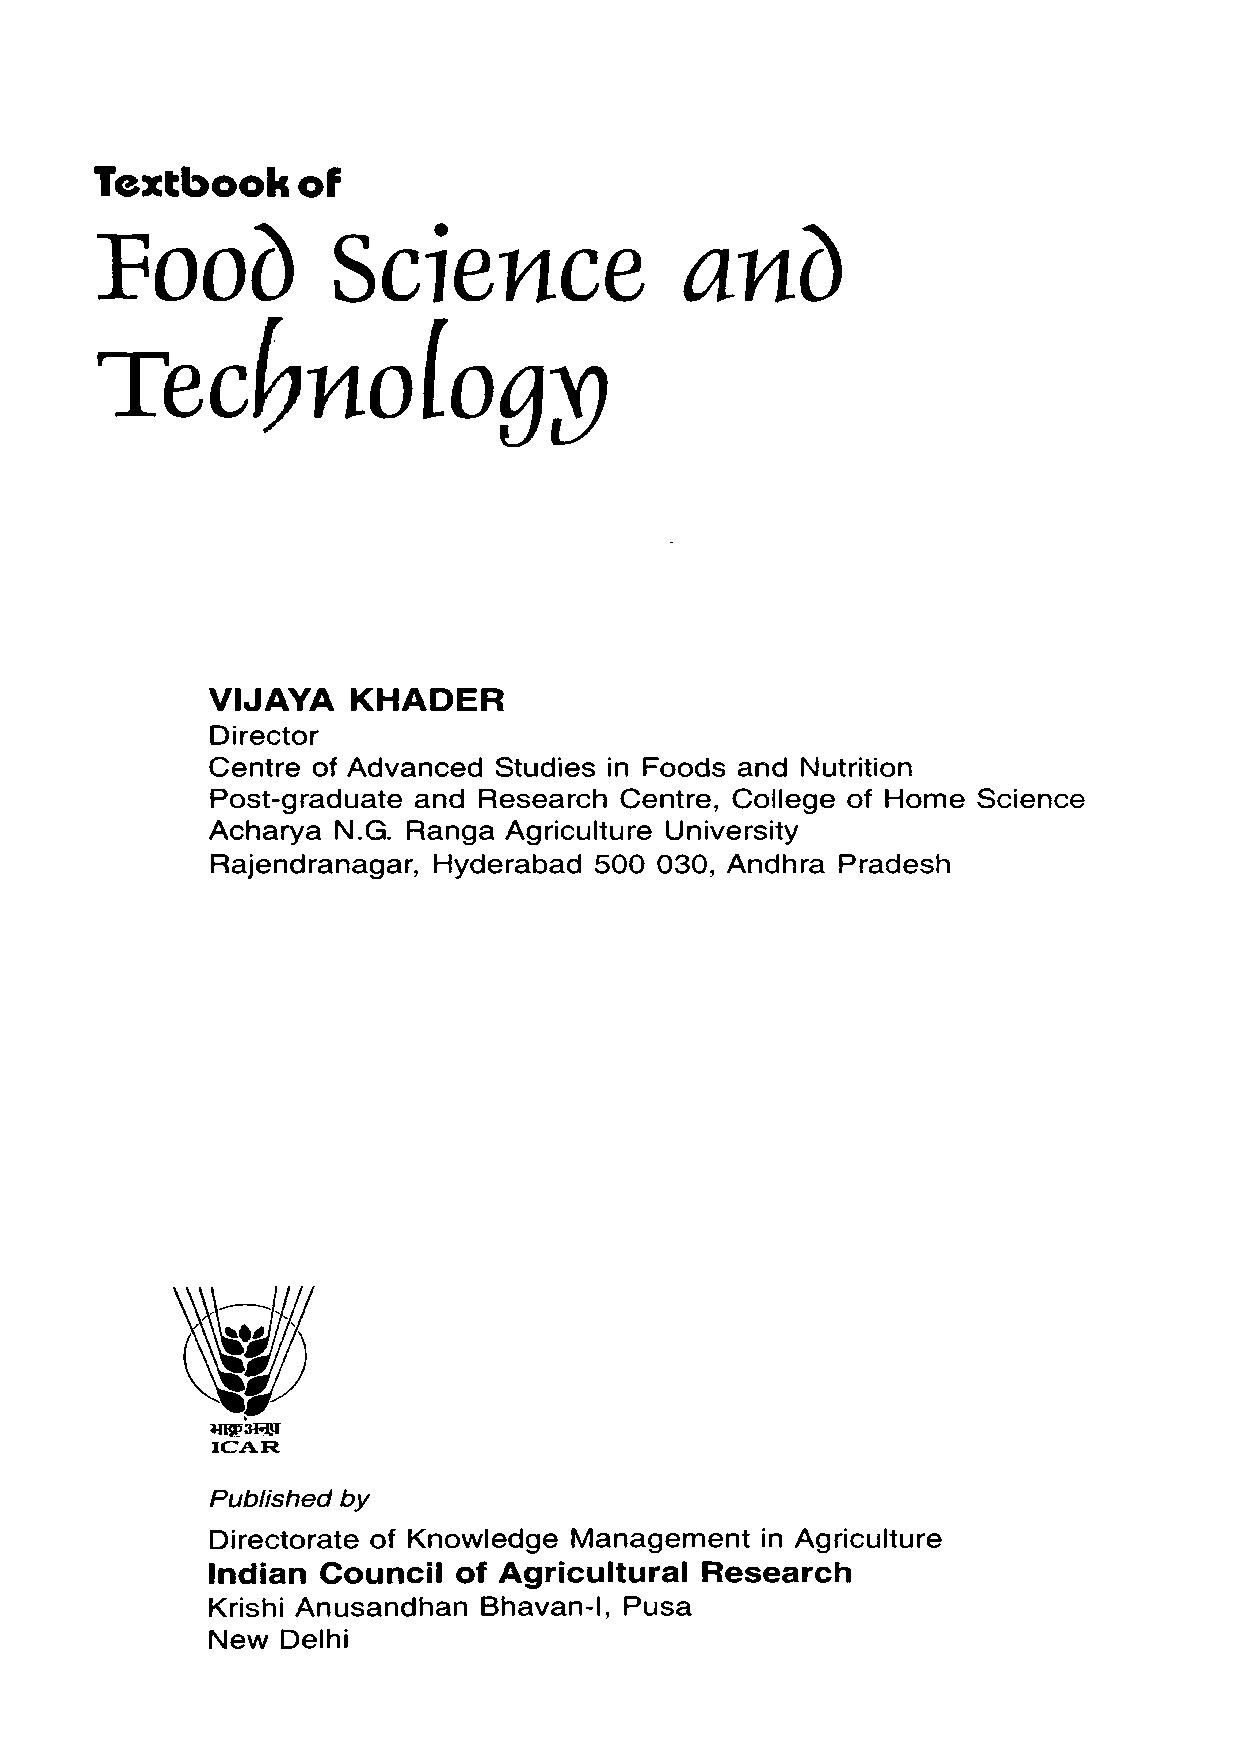author: (205, 682, 507, 717)
title: (89, 220, 845, 450)
